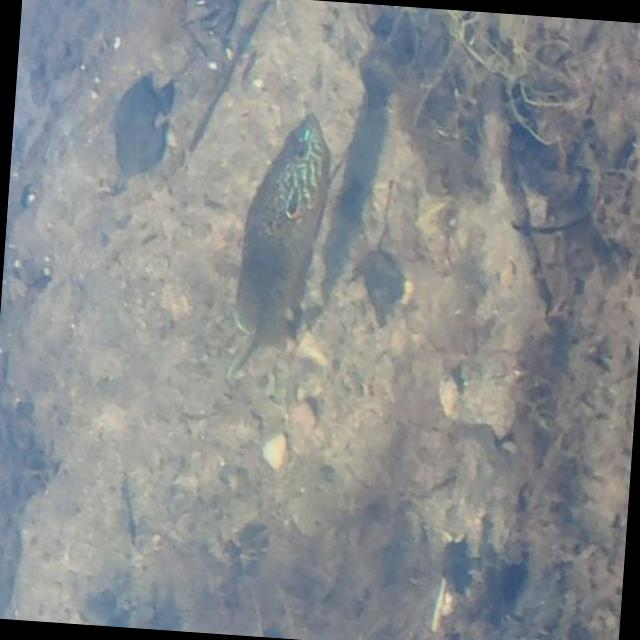Gunes Levregi: (221, 108, 340, 408)
